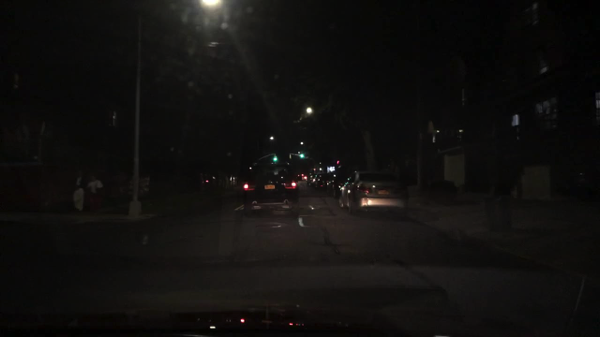car: (337, 169, 411, 216), (239, 162, 301, 217), (323, 170, 354, 198), (312, 172, 331, 187), (306, 173, 317, 188), (293, 174, 303, 182)
person: (72, 169, 89, 212), (85, 175, 104, 212)
traffic light: (298, 150, 304, 159), (271, 154, 277, 162)
